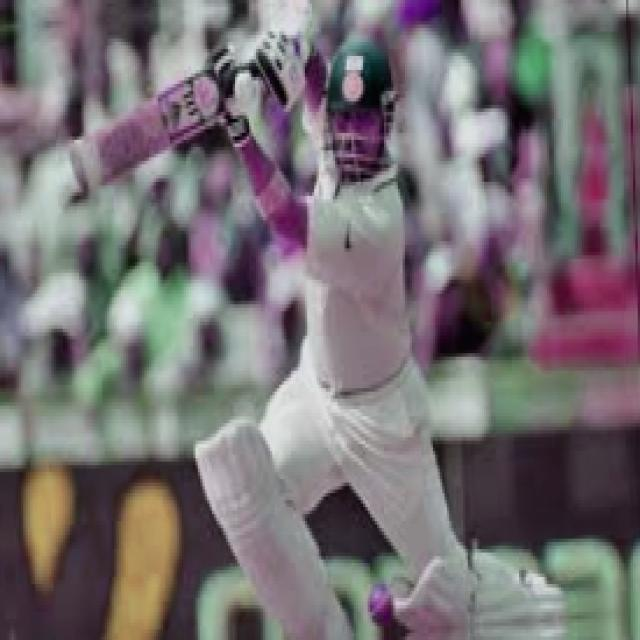bat: (49, 85, 236, 209)
toe: (70, 148, 88, 199)
